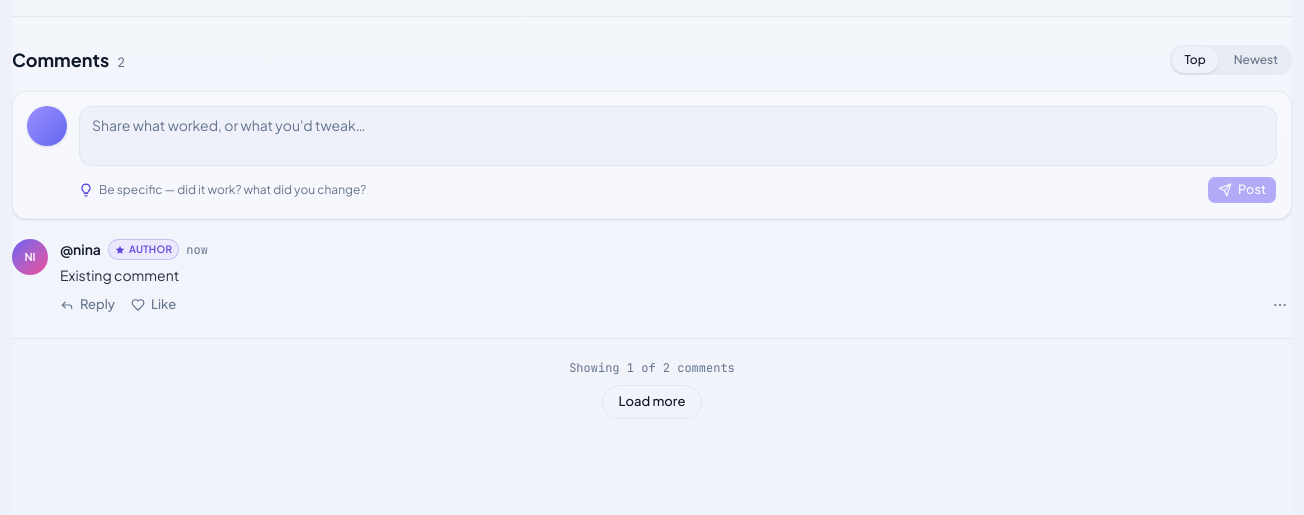
CommentThread › shows 'Load more' and appends the next page, then 'caught up'
Click the button "Load more".
click(652, 402)  # box [602, 385, 702, 419]
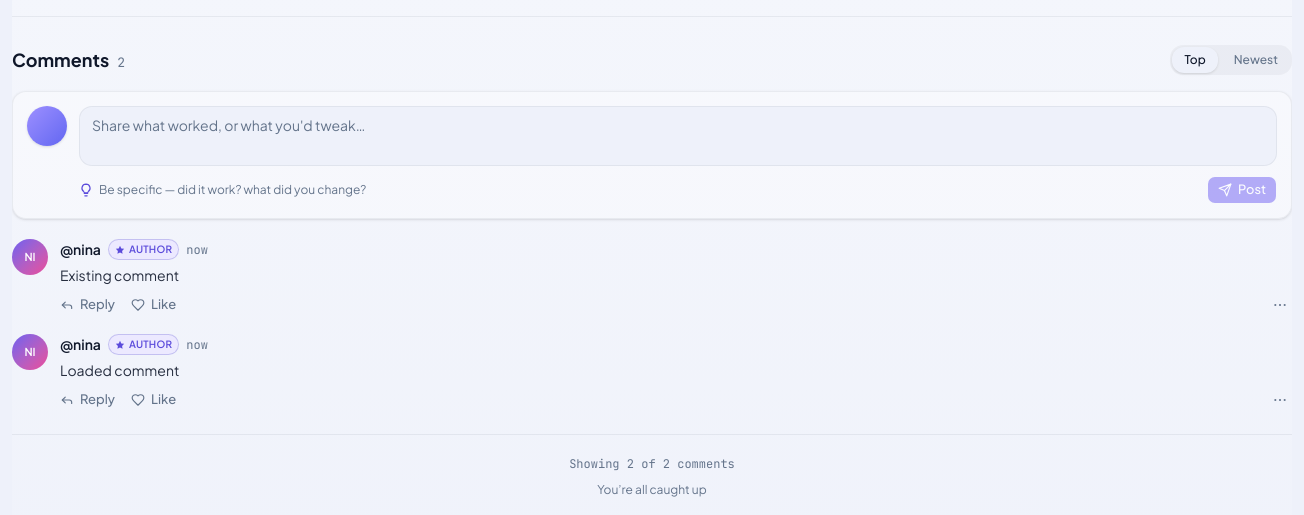
Expected: the text "Loaded comment" is shown, [60, 361, 179, 379]
Expected: the text "You’re all caught up" is shown, [597, 480, 707, 498]
